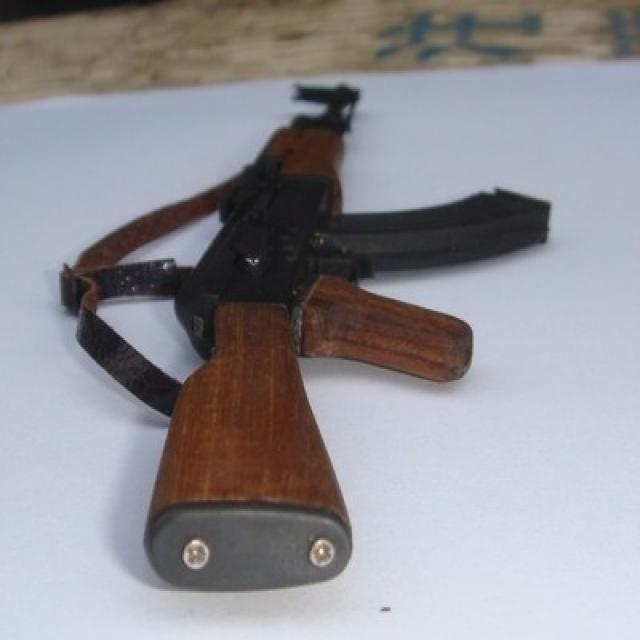ak: (140, 88, 558, 594)
